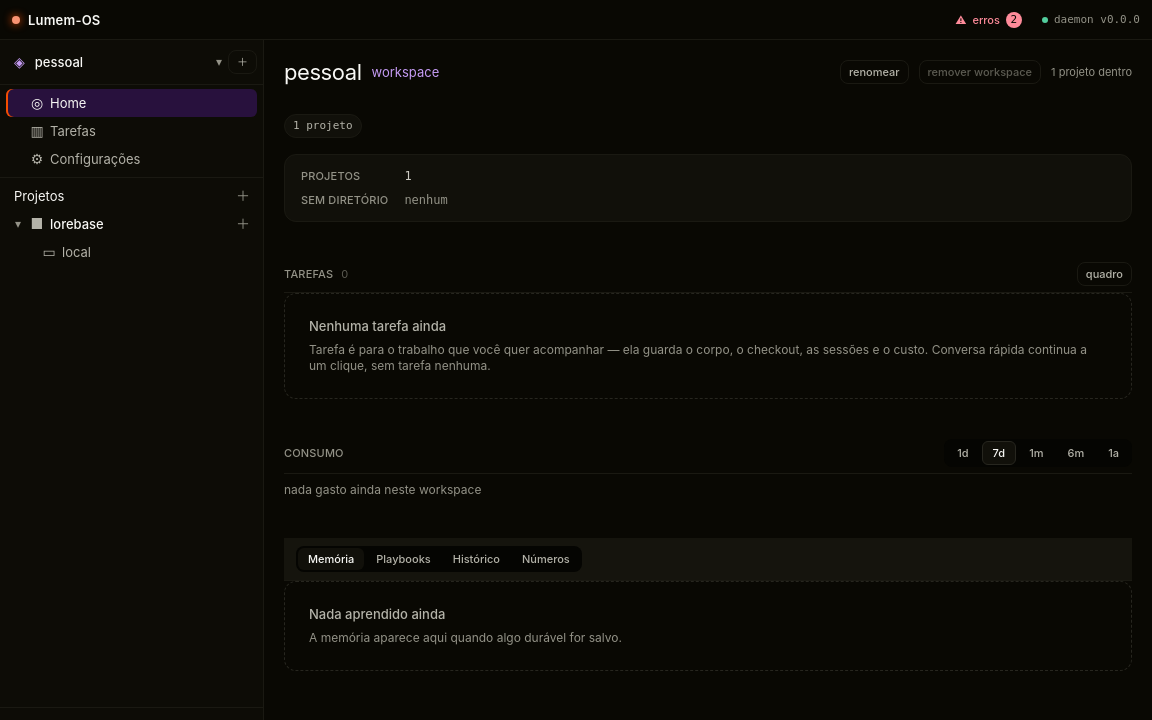
create worktree › shows the daemon's refusal
Click the button "■ lorebase" at (128, 224), box [26,210,231,238]
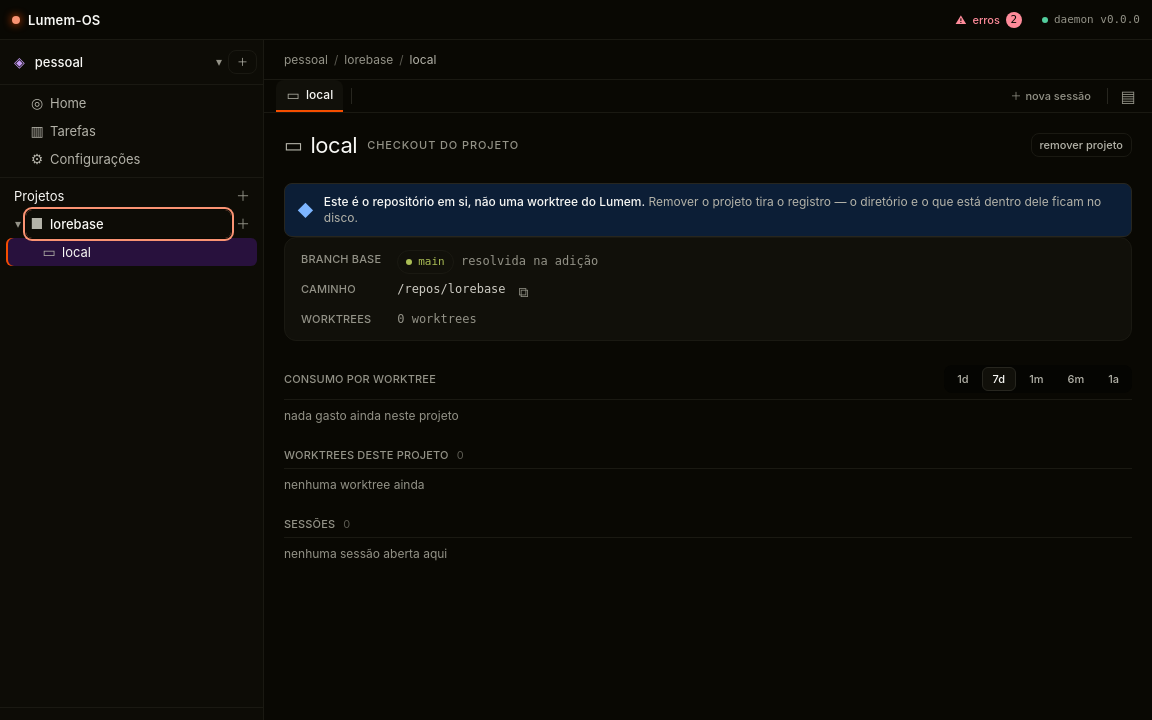
Click the button named "nova worktree em lorebase" at (243, 224), box [231,212,255,236]
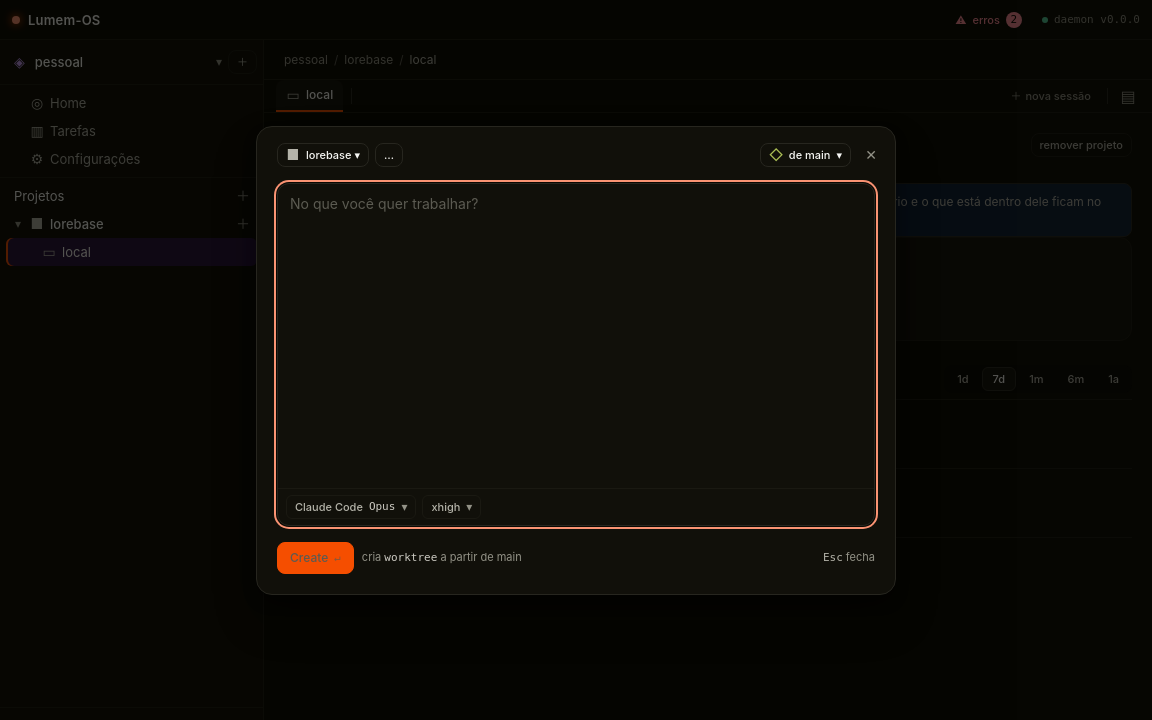
Type "teste" into the text box labelled "No que você quer trabalhar?" at (576, 336), box [278,184,874,488]
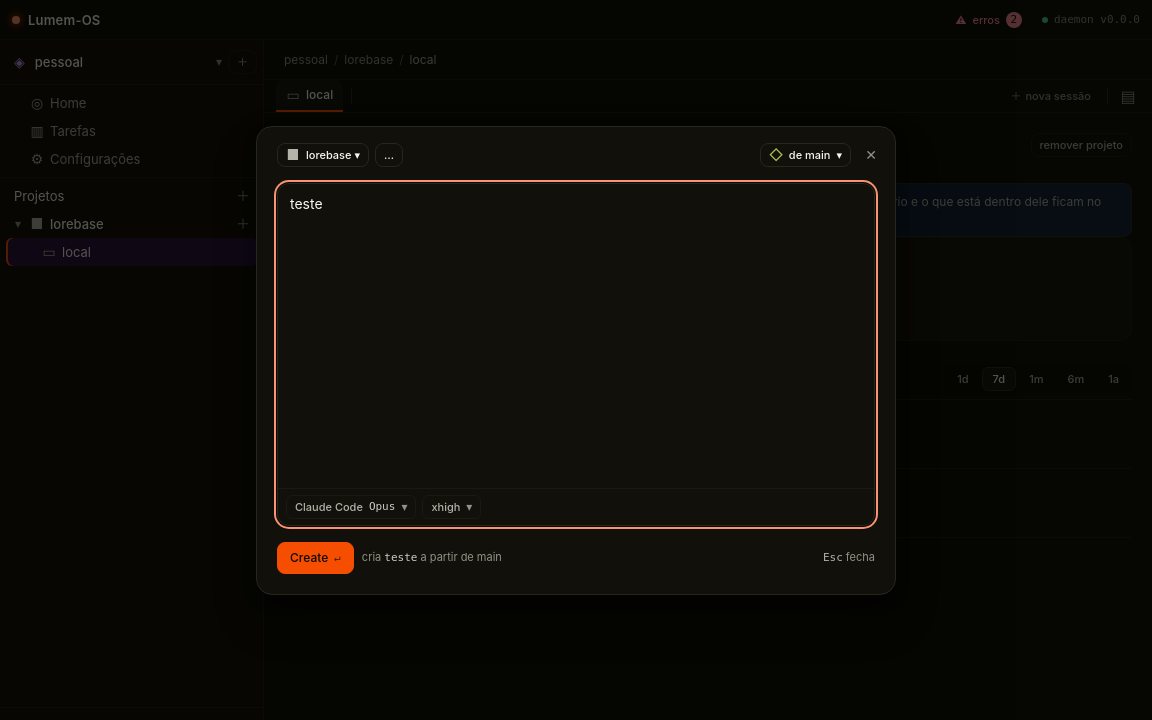
Click the button "Create ↵" at (315, 558), box [277,542,354,574]
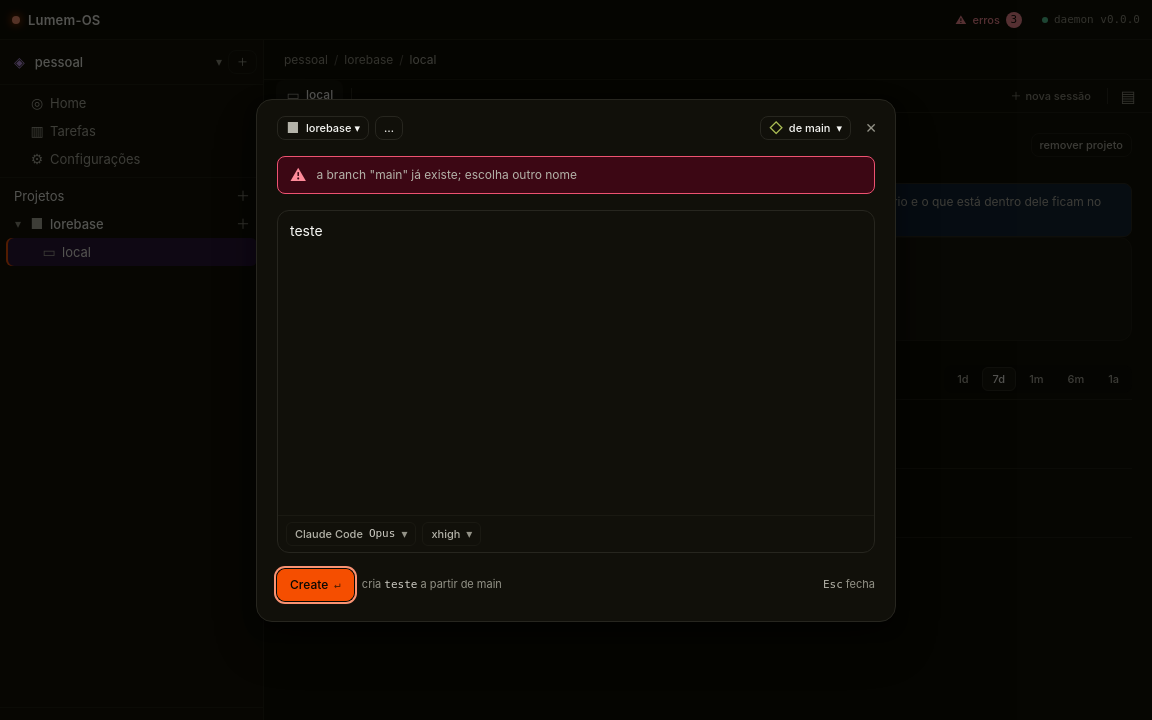
Check: the message shows "escolha outro nome", box [316,166,577,182]
